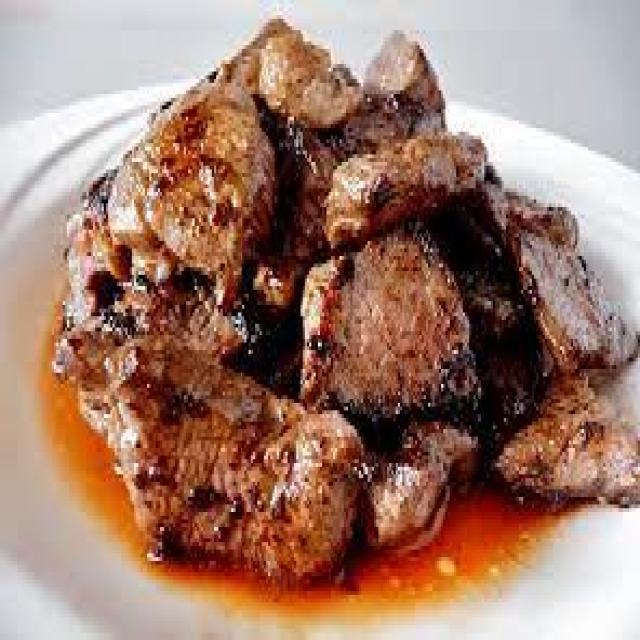Carne: (49, 11, 636, 584)
